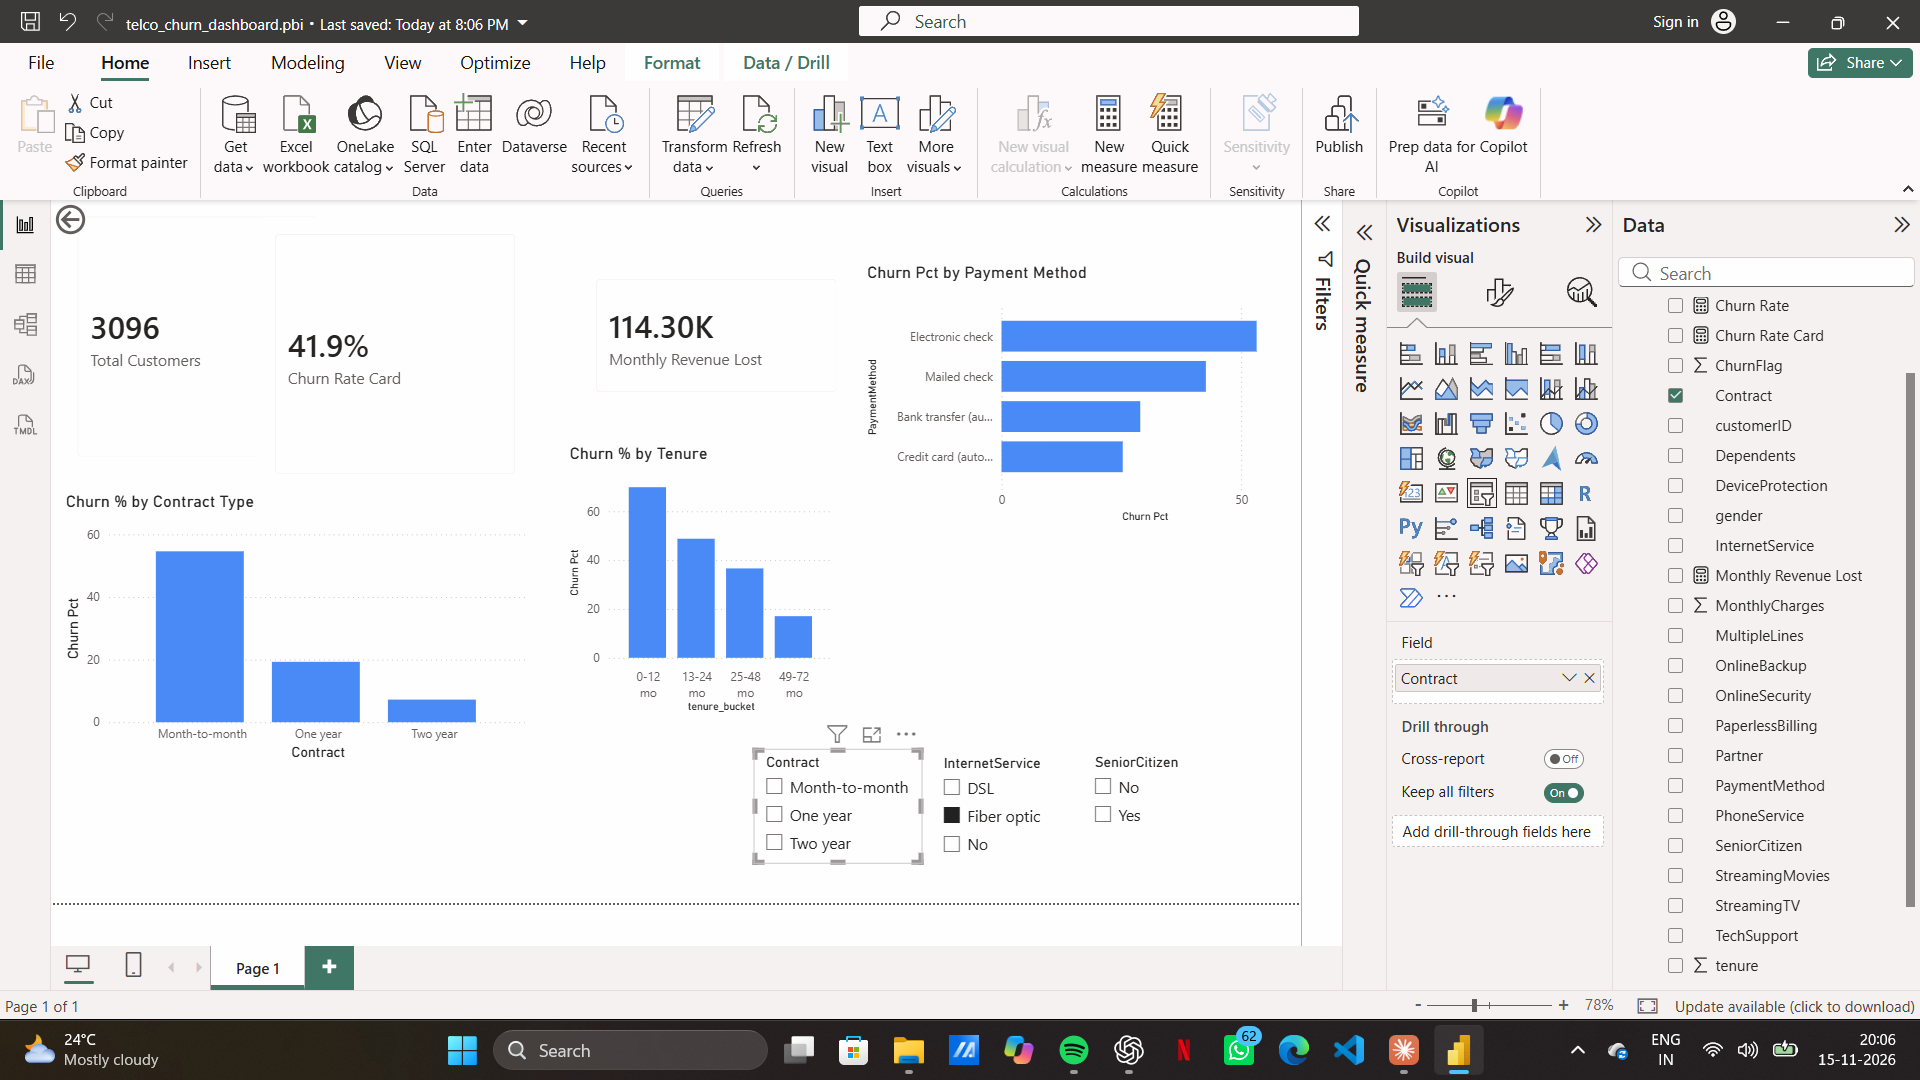

The page's visual inventory and layout, read from the dashboard file:
{"tool":"powerbi","page":{"name":"Page 1","canvas":[1280,720],"ordinal":0},"visuals":[{"type":"cardVisual","fields":{"Data":["Customers.Total Customers"]},"box":[10,0,280,280],"z":0},{"type":"cardVisual","fields":{"Data":["Customers.Churn Rate Card"]},"box":[212.5,17.9,280,280],"z":1000},{"type":"cardVisual","fields":{"Data":["Customers.Monthly Revenue Lost"]},"box":[541.4,64,280,150],"z":2000},{"type":"clusteredColumnChart","title":"Churn % by Contract Type","fields":{"Category":["Customers.Contract"],"Y":["Customers.Churn Pct"]},"box":[10.2,298.2,482.6,280.3],"z":3000},{"type":"clusteredColumnChart","title":"Churn % by Tenure","fields":{"Y":["Customers.Churn Pct"],"Category":["Customers.tenure_bucket"]},"box":[526.1,249.6,280,280],"z":4000},{"type":"clusteredBarChart","title":"Churn Pct by Payment Method","fields":{"Category":["Customers.PaymentMethod"],"Y":["Customers.Churn Pct"]},"box":[830.7,64,449.3,271.4],"z":5000},{"type":"slicer","fields":{"Values":["Customers.Contract"]},"box":[719.4,561.9,172.8,117.8],"z":6000},{"type":"slicer","fields":{"Values":["Customers.InternetService"]},"box":[901.1,563.2,145.9,149.8],"z":7000},{"type":"actionButton","box":[0,0,100,40],"z":8000},{"type":"slicer","fields":{"Values":["Customers.SeniorCitizen"]},"box":[1056,561.9,224,149.8],"z":9000}]}

Visuals, with their boxes on the page's 1280x720 design canvas (x1, y1, x2, y2). These are canvas units, not pixel positions in the 1920x1080 screenshot, which may show the page scaled, cropped or inside an application window:
cardVisual - Customers.Total Customers: left=10, top=0, right=290, bottom=280
cardVisual - Customers.Churn Rate Card: left=212, top=18, right=492, bottom=298
cardVisual - Customers.Monthly Revenue Lost: left=541, top=64, right=821, bottom=214
"Churn % by Contract Type" clusteredColumnChart: left=10, top=298, right=493, bottom=578
"Churn % by Tenure" clusteredColumnChart: left=526, top=250, right=806, bottom=530
"Churn Pct by Payment Method" clusteredBarChart: left=831, top=64, right=1280, bottom=335
slicer - Customers.Contract: left=719, top=562, right=892, bottom=680
slicer - Customers.InternetService: left=901, top=563, right=1047, bottom=713
actionButton: left=0, top=0, right=100, bottom=40
slicer - Customers.SeniorCitizen: left=1056, top=562, right=1280, bottom=712
